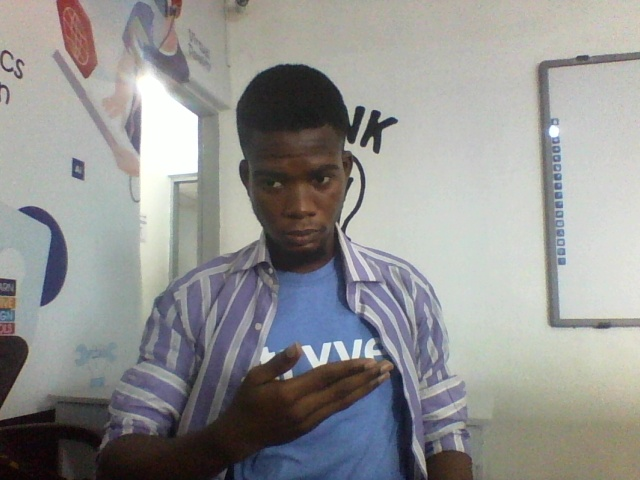you_are_welcome: (141, 343, 396, 462)
